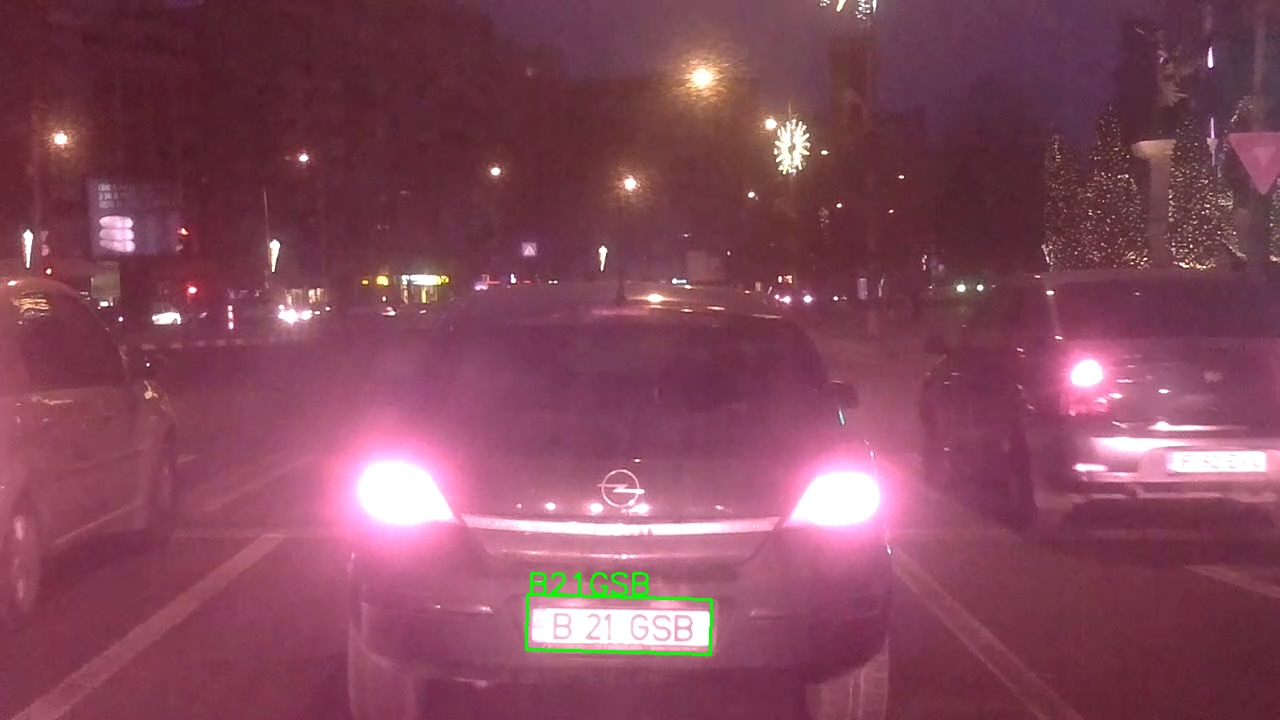license-plate: (525, 593, 713, 656)
